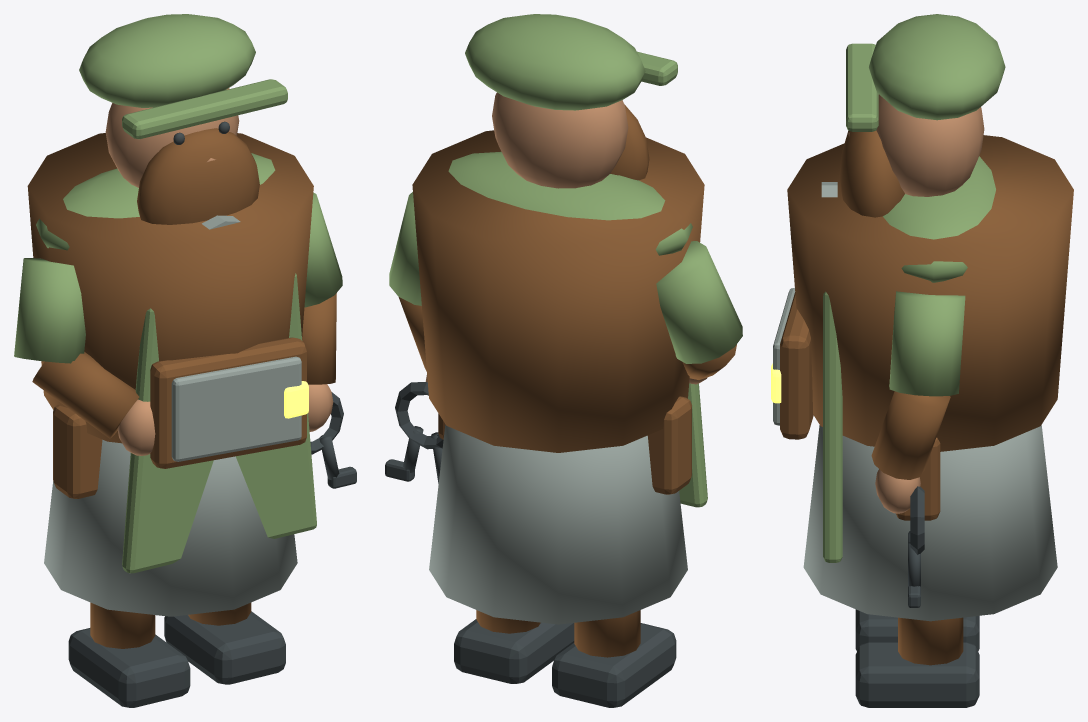
File: SM_EmbermereFenwatchQuartermaster_01.fbx
3 views of the same model, side by side, from view 1: azimuth 30°, elevation 25°; view 2: azimuth 150°, elevation 25°; view 3: azimuth 270°, elevation 25° (orthographic). The views are drawn at different scales.
Parts seen in each view (by area): view 1: SM_EmbermereFenwatchQuartermaster_01; view 2: SM_EmbermereFenwatchQuartermaster_01; view 3: SM_EmbermereFenwatchQuartermaster_01.
Boxes of the visible parts, x1,y1,x2,y2 form: SM_EmbermereFenwatchQuartermaster_01: (14, 14, 356, 707); SM_EmbermereFenwatchQuartermaster_01: (385, 14, 742, 707); SM_EmbermereFenwatchQuartermaster_01: (771, 14, 1073, 707).
Bounding box in the file's own units: 121 × 93 × 217.
